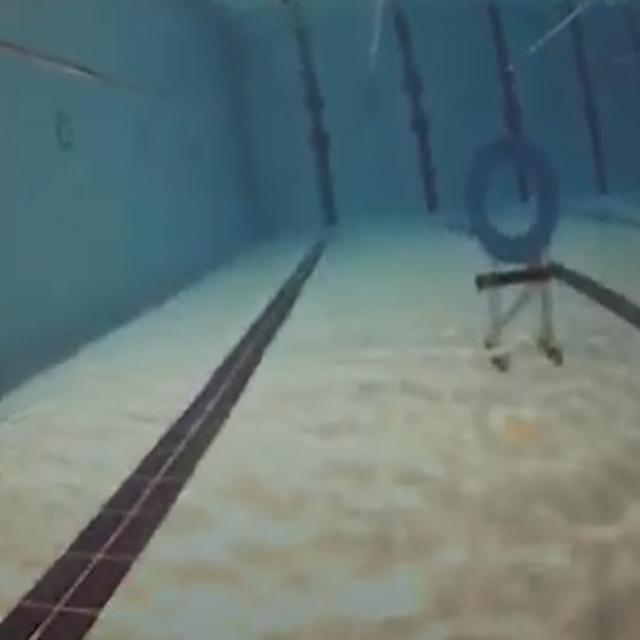Circle: (463, 128, 555, 264)
